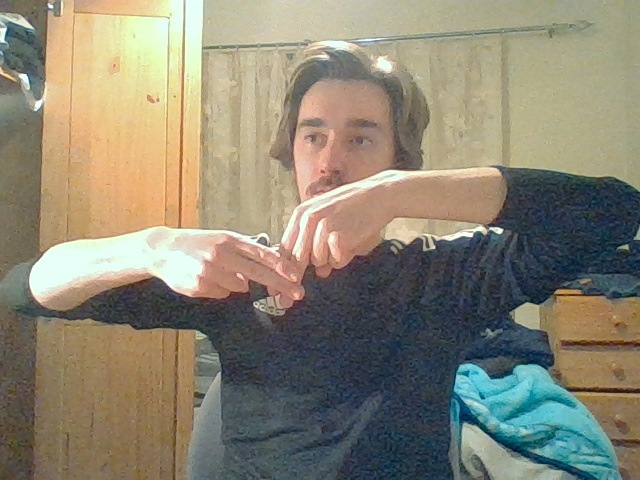father: (238, 216, 325, 308)
